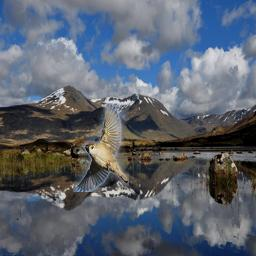Sparrow: (73, 103, 129, 192)
